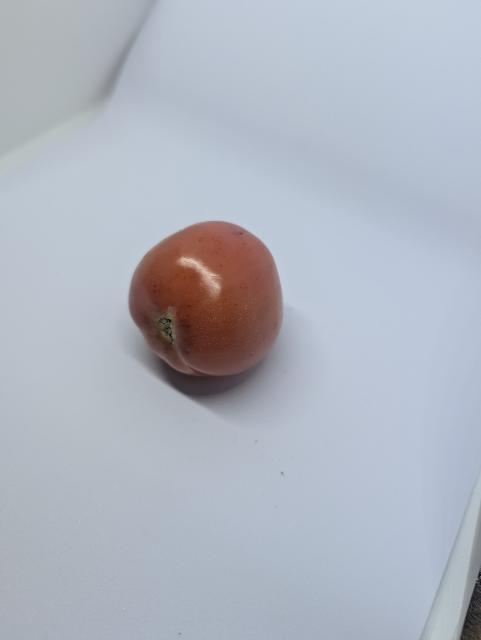red: (118, 217, 315, 399)
